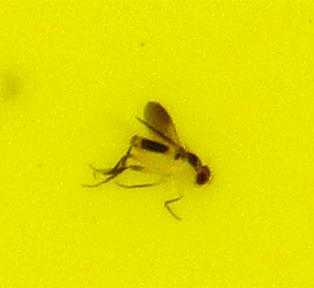Brachycera: (100, 100, 214, 188)
